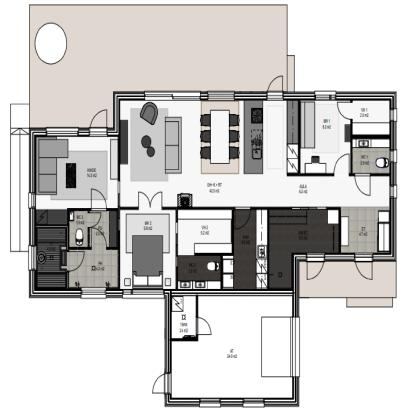door: (304, 254, 325, 282), (88, 107, 107, 136), (355, 254, 375, 281), (152, 372, 174, 395), (353, 172, 373, 197), (138, 190, 163, 210), (67, 249, 86, 273), (91, 226, 109, 251), (266, 74, 283, 100), (233, 206, 251, 230), (198, 316, 216, 340), (333, 152, 349, 177), (90, 188, 106, 212), (337, 102, 357, 120), (88, 210, 104, 228)
window: (124, 288, 163, 300), (45, 126, 79, 136), (199, 396, 220, 409), (207, 90, 233, 100), (80, 288, 105, 298), (245, 396, 264, 408), (315, 89, 335, 98), (29, 191, 37, 212), (145, 92, 172, 98), (29, 246, 35, 267), (388, 110, 396, 122), (389, 186, 396, 198), (392, 148, 396, 162)
zone: (30, 4, 286, 129), (118, 100, 389, 209), (171, 294, 292, 399), (37, 135, 119, 289), (269, 210, 342, 291), (176, 208, 234, 291), (119, 208, 175, 288), (300, 258, 395, 300), (70, 208, 118, 288), (231, 209, 266, 288), (340, 208, 388, 250)
